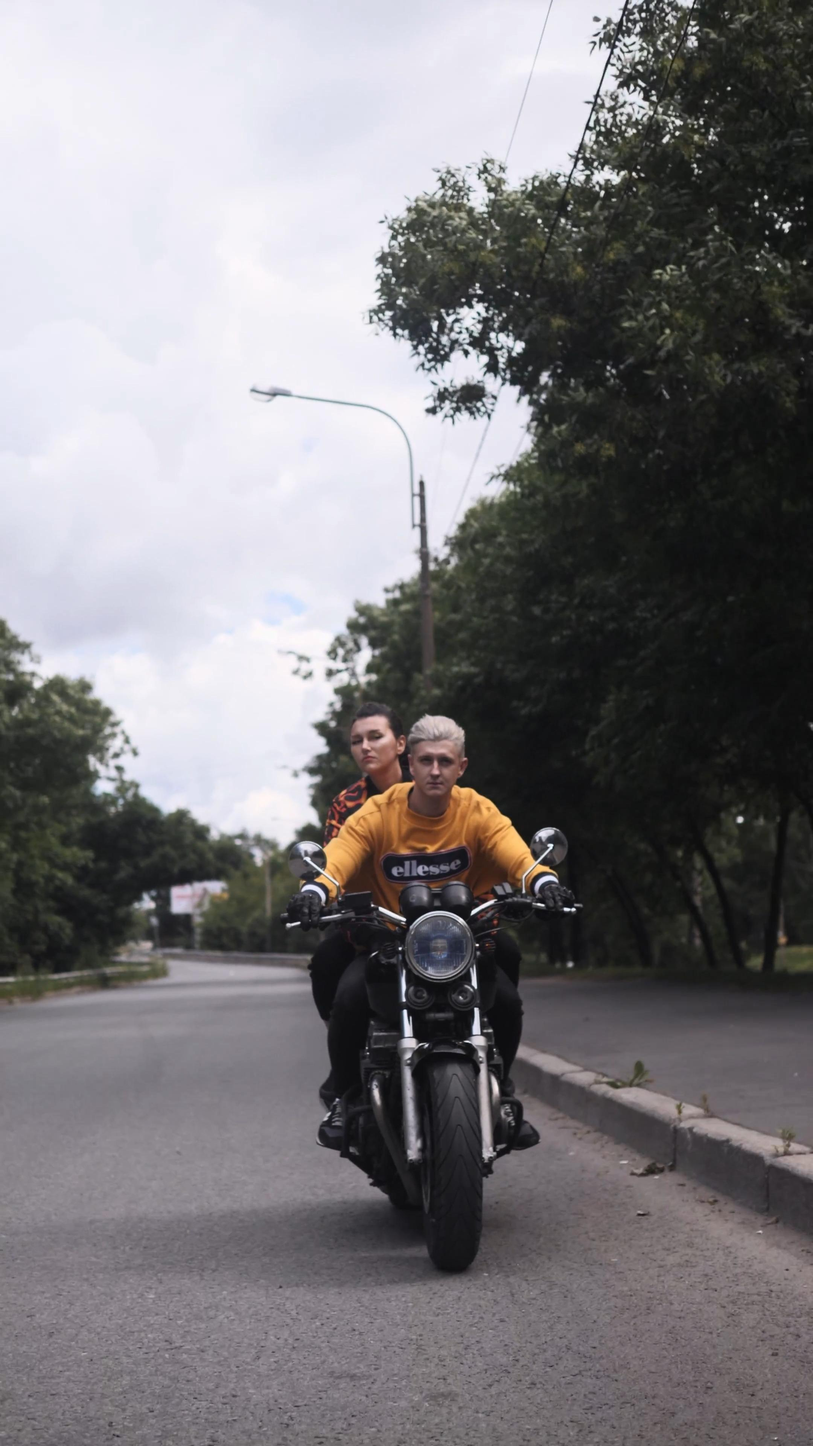driver: (278, 701, 586, 1271)
no-helmet: (407, 715, 468, 798), (350, 703, 406, 773)
